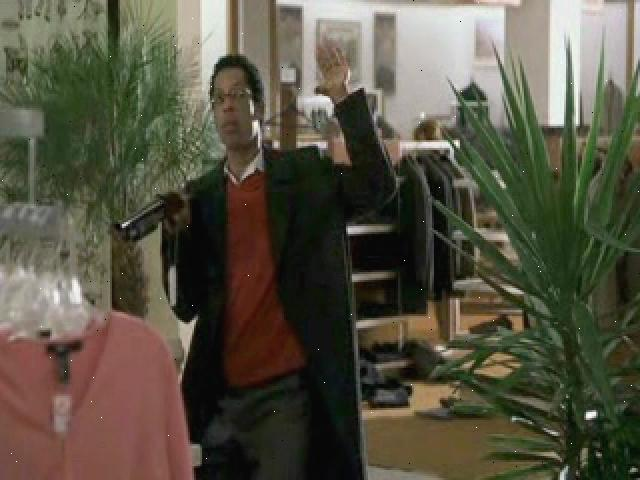L: (102, 38, 401, 474)
